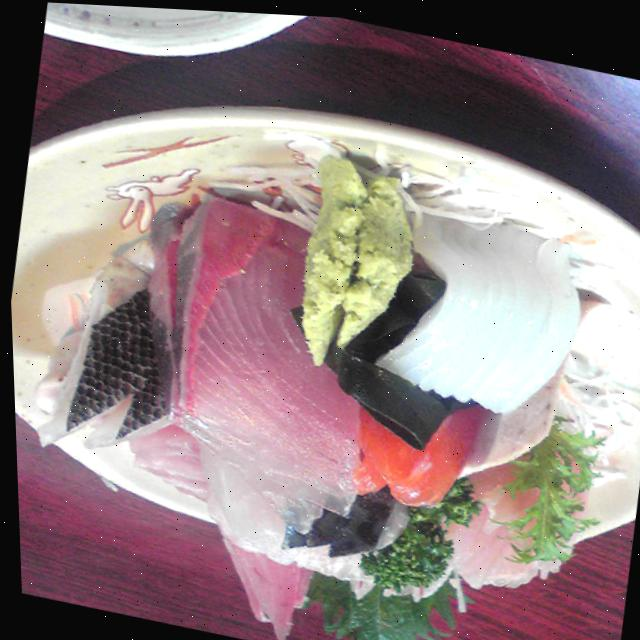刺身生食: (2, 66, 640, 640)
